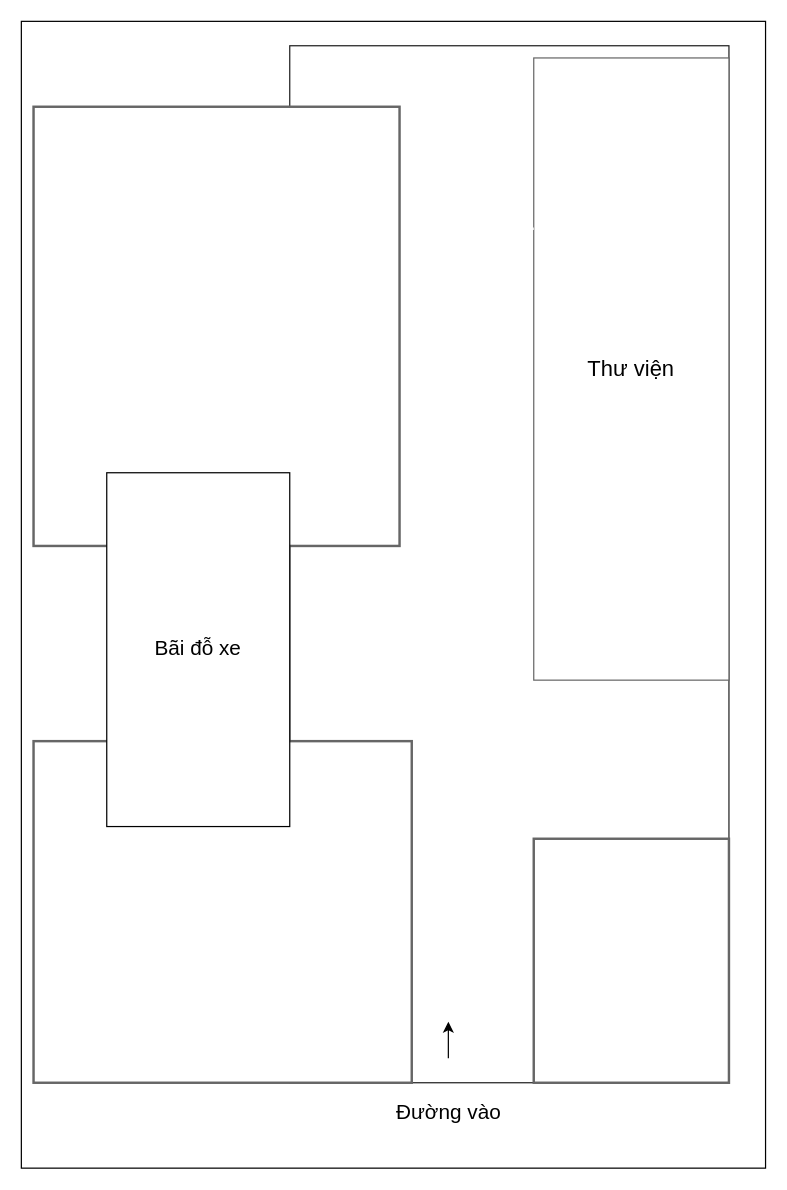
The diagram is 787 pixels wide and 1190 high, and some of its shapes have lost their labels. The centre of each missing label's shape, as x and y in pixels:
"D3" goes at point (222, 911).
"D5" goes at point (216, 326).
